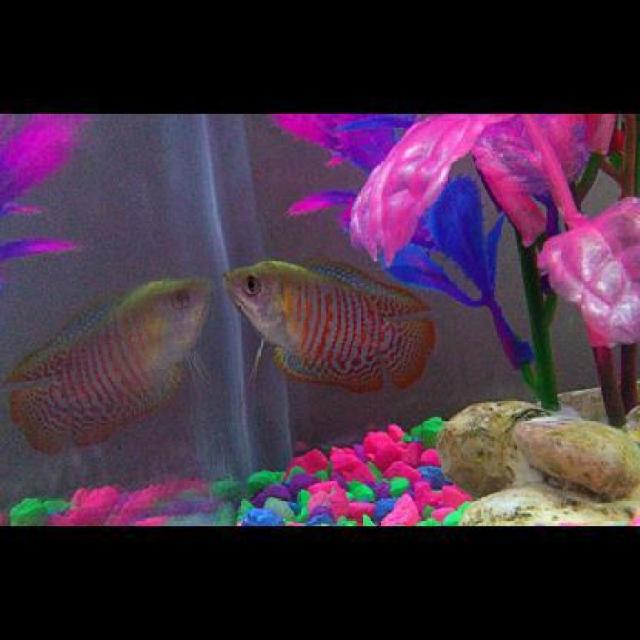Gourami: (216, 250, 433, 408)
